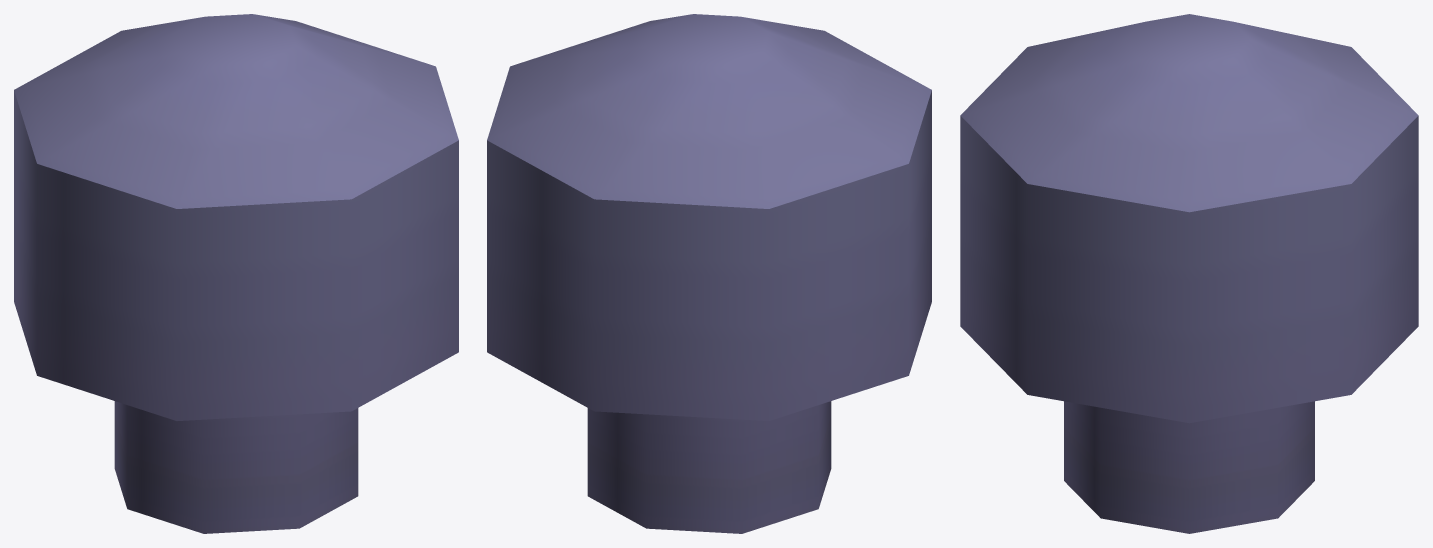
File: Chimney_5_D.fbx
3 renders of one model, left to right at view 1: azimuth 30°, elevation 25°; view 2: azimuth 150°, elevation 25°; view 3: azimuth 270°, elevation 25°, orthographic.
Parts seen in each view (by area): view 1: Chimney_5_D; view 2: Chimney_5_D; view 3: Chimney_5_D.
Boxes of the visible parts, <box> form: Chimney_5_D: <box>14,14,458,533</box>; Chimney_5_D: <box>487,14,931,533</box>; Chimney_5_D: <box>960,14,1418,533</box>.
Size of the model in its own units: 56.18 by 59.66 by 56.18.
